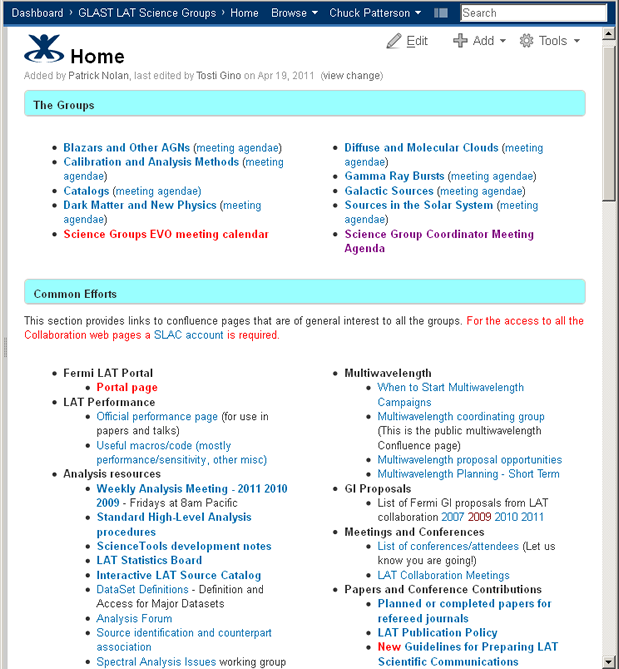search_box: (458, 4, 611, 24)
